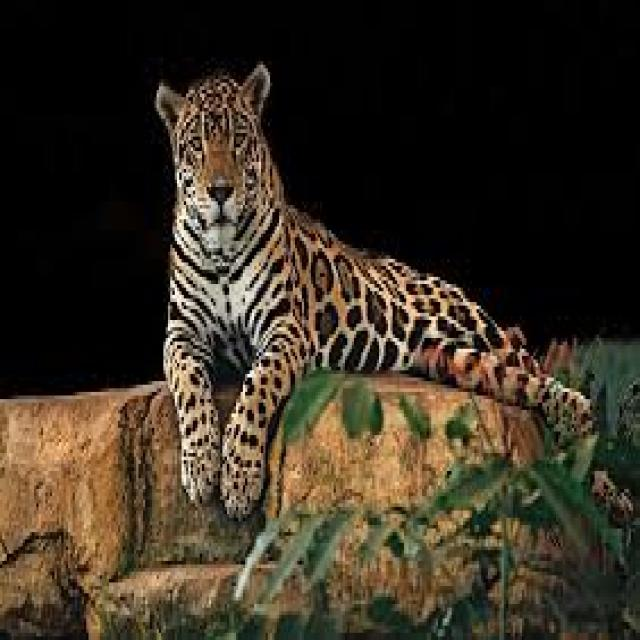Jaguar: (156, 65, 602, 521)
